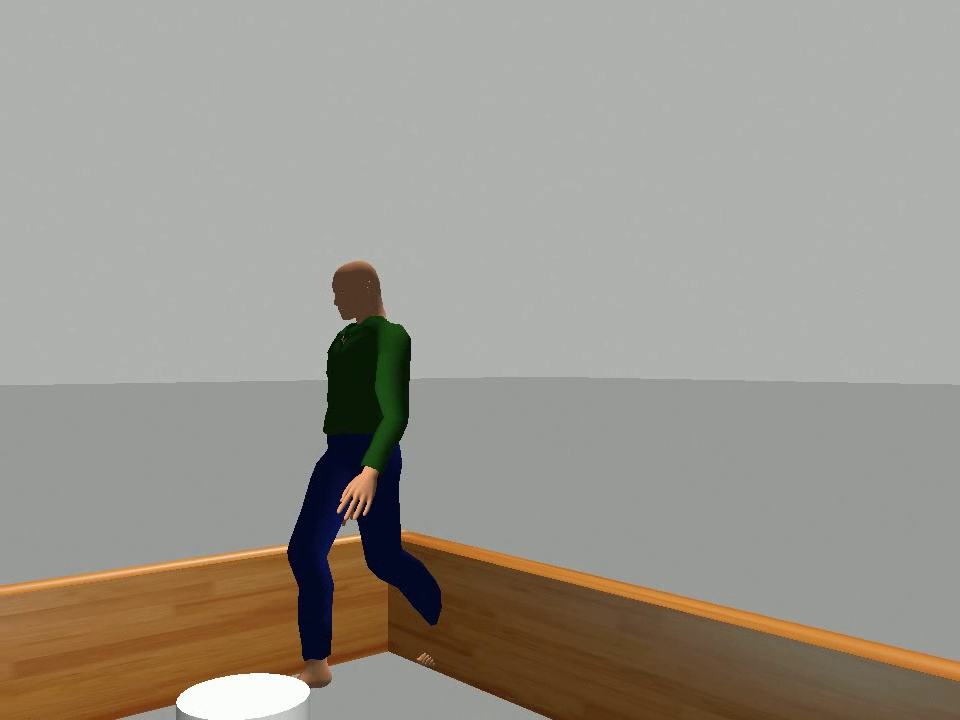person: (283, 259, 444, 692)
